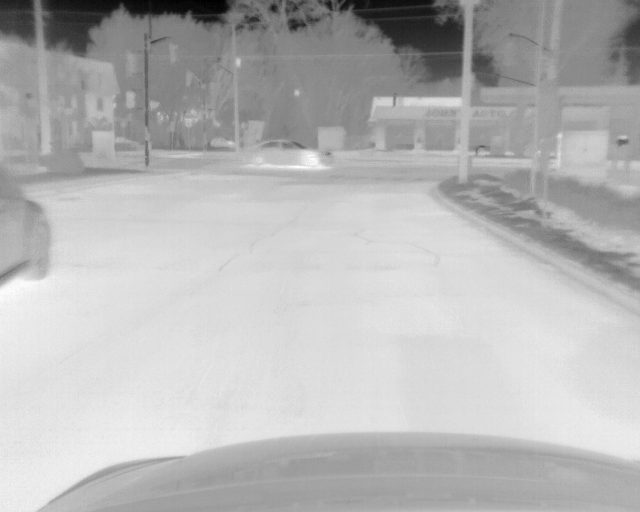car: (1, 162, 52, 288), (239, 138, 335, 168)
